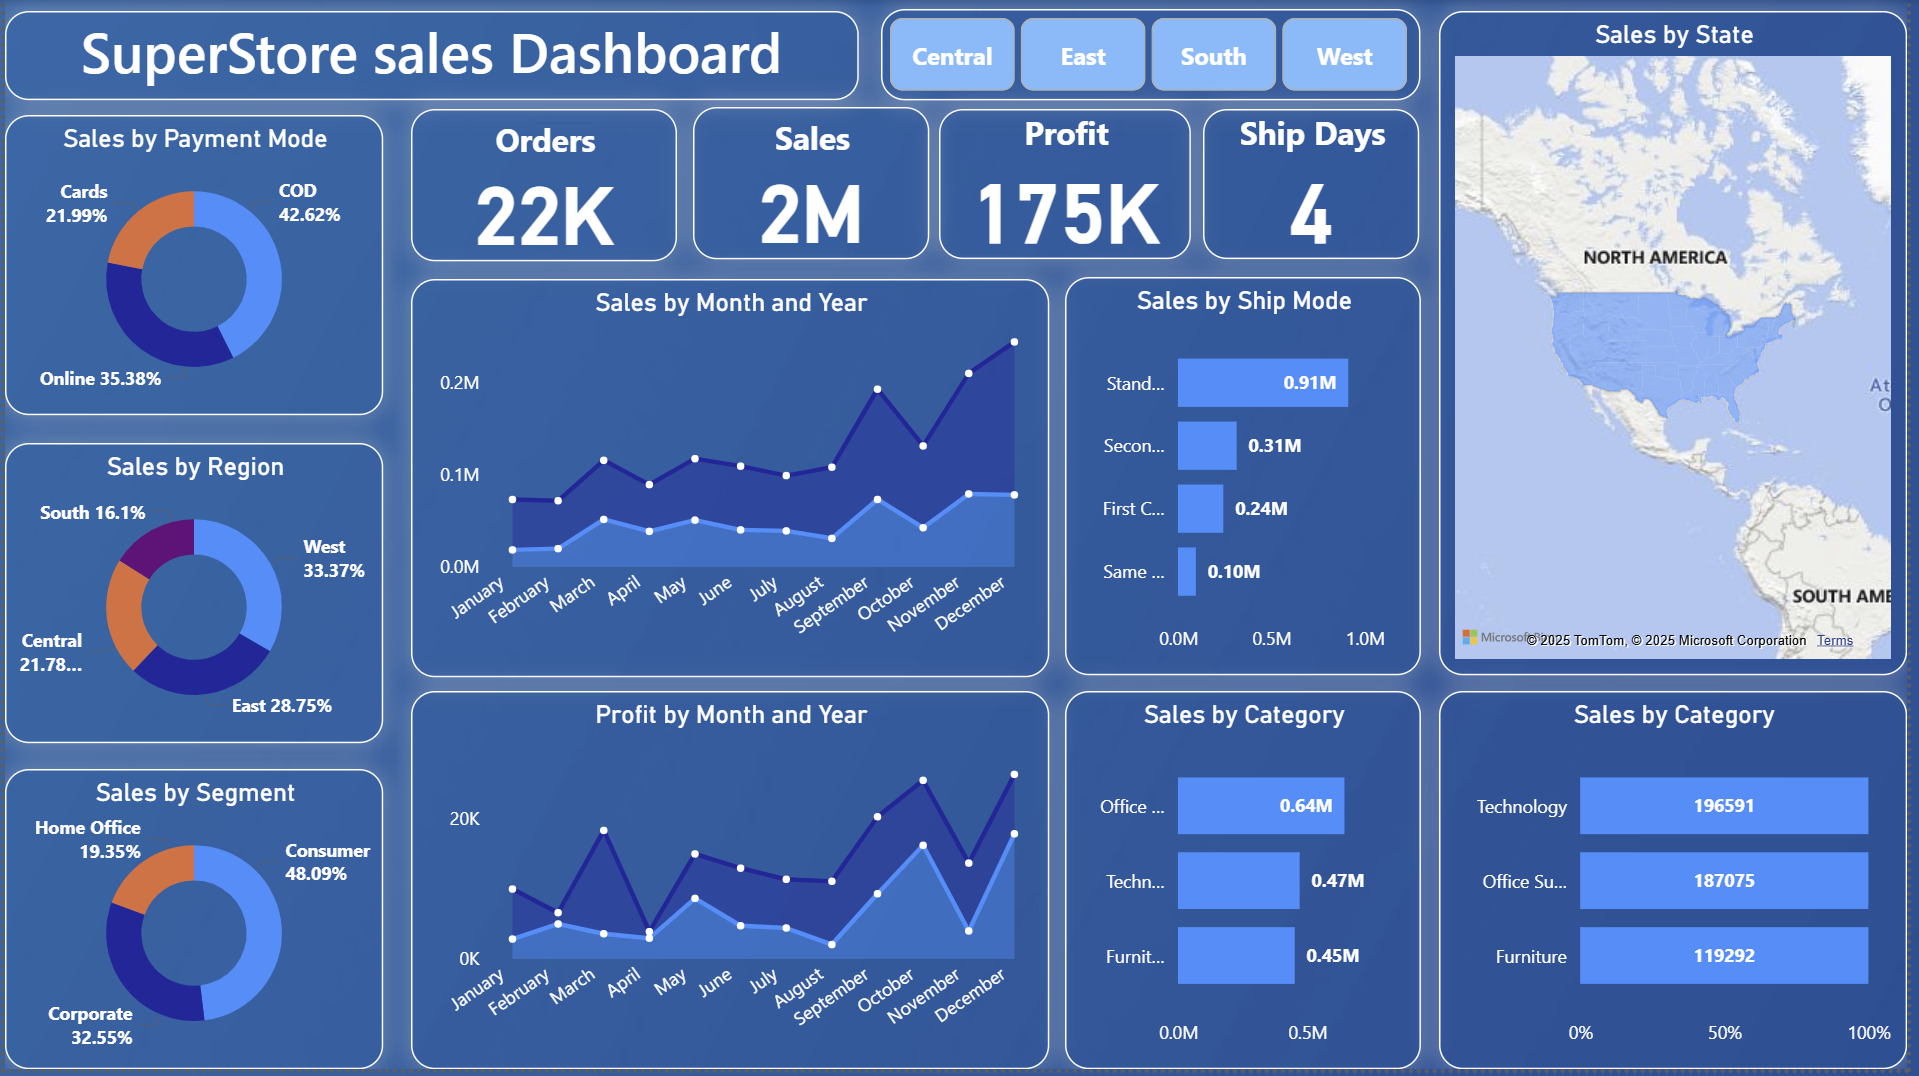

What the dashboard file says about the page in this screenshot:
{"tool":"powerbi","page":{"name":"Dashboard","canvas":[1280,720],"ordinal":0},"visuals":[{"type":"donutChart","title":"Sales by Payment Mode","fields":{"Category":["Sheet1.Payment Mode"],"Y":["Sum(Sheet1.Sales)"]},"box":[0,78.1,254.4,201.9],"z":0},{"type":"donutChart","title":"Sales by Region","fields":{"Y":["Sum(Sheet1.Sales)"],"Category":["Sheet1.Region"]},"box":[0,298.8,254.4,201.9],"z":1000},{"type":"donutChart","title":"Sales by Segment","fields":{"Y":["Sum(Sheet1.Sales)"],"Category":["Sheet1.Segment"]},"box":[0,518.1,254.4,201.9],"z":2000},{"type":"stackedAreaChart","title":"Sales by Month and Year","fields":{"Y":["Sum(Sheet1.Sales)"],"Category":["Sheet1.Order Date.Variation.Date Hierarchy.Month"],"Series":["Sheet1.Order Date.Variation.Date Hierarchy.Year"]},"box":[273.2,188.4,429.3,267.8],"z":3000},{"type":"clusteredBarChart","title":"Sales by Ship Mode","fields":{"Y":["Sum(Sheet1.Sales)"],"Category":["Sheet1.Ship Mode"]},"box":[713.3,187.1,239.6,267.8],"z":4000},{"type":"stackedAreaChart","title":"Profit by Month and Year","fields":{"Category":["Sheet1.Order Date.Variation.Date Hierarchy.Month"],"Y":["Sum(Sheet1.Profit)"],"Series":["Sheet1.Order Date.Variation.Date Hierarchy.Year"]},"box":[273.2,465.6,429.3,254.4],"z":5000},{"type":"clusteredBarChart","title":"Sales by Category","fields":{"Y":["Sum(Sheet1.Sales)"],"Category":["Sheet1.Category"]},"box":[713.3,465.6,239.6,254.4],"z":6000},{"type":"hundredPercentStackedBarChart","title":"Sales by Category","fields":{"Y":["Sum(Sheet1.Sales)"],"Category":["Sheet1.Category"]},"box":[964.9,465.6,314.9,254.4],"z":7000},{"type":"card","title":"Profit","fields":{"Values":["Sum(Sheet1.Profit)"]},"box":[628.5,74,169.6,100.9],"z":8000},{"type":"card","title":"Orders","fields":{"Values":["Sum(Sheet1.Quantity)"]},"box":[273.2,74,179,102.3],"z":9000},{"type":"card","title":"Sales","fields":{"Values":["Sum(Sheet1.Sales)"]},"box":[463,72.7,158.8,102.3],"z":10000},{"type":"textbox","box":[0,8.6,574.3,60],"z":11000},{"type":"advancedSlicerVisual","fields":{"Values":["Sheet1.Region"]},"box":[590,7.1,362.9,61.4],"z":12000},{"type":"filledMap","title":"Sales by State","fields":{"Category":["Sheet1.State"]},"box":[964.9,8.1,314.9,446.8],"z":13000},{"type":"card","title":"Ship Days","fields":{"Values":["Avg(Sheet1.AverageDay)"]},"box":[806.1,74,145.3,100.9],"z":14000}]}

Visuals, with their boxes in screenshot pixels (x1, y1, x2, y2), scaled from the page's 1280x720 canvas onto the 1919x1076 screenshot:
"Sales by Payment Mode" donutChart: 0/117/381/418
"Sales by Region" donutChart: 0/447/381/748
"Sales by Segment" donutChart: 0/774/381/1075
"Sales by Month and Year" stackedAreaChart: 410/282/1053/682
"Sales by Ship Mode" clusteredBarChart: 1069/280/1429/680
"Profit by Month and Year" stackedAreaChart: 410/696/1053/1075
"Sales by Category" clusteredBarChart: 1069/696/1429/1075
"Sales by Category" hundredPercentStackedBarChart: 1447/696/1918/1075
"Profit" card: 942/111/1197/261
"Orders" card: 410/111/678/263
"Sales" card: 694/109/932/262
textbox: 0/13/861/103
advancedSlicerVisual - Sheet1.Region: 885/11/1429/102
"Sales by State" filledMap: 1447/12/1918/680
"Ship Days" card: 1209/111/1426/261
